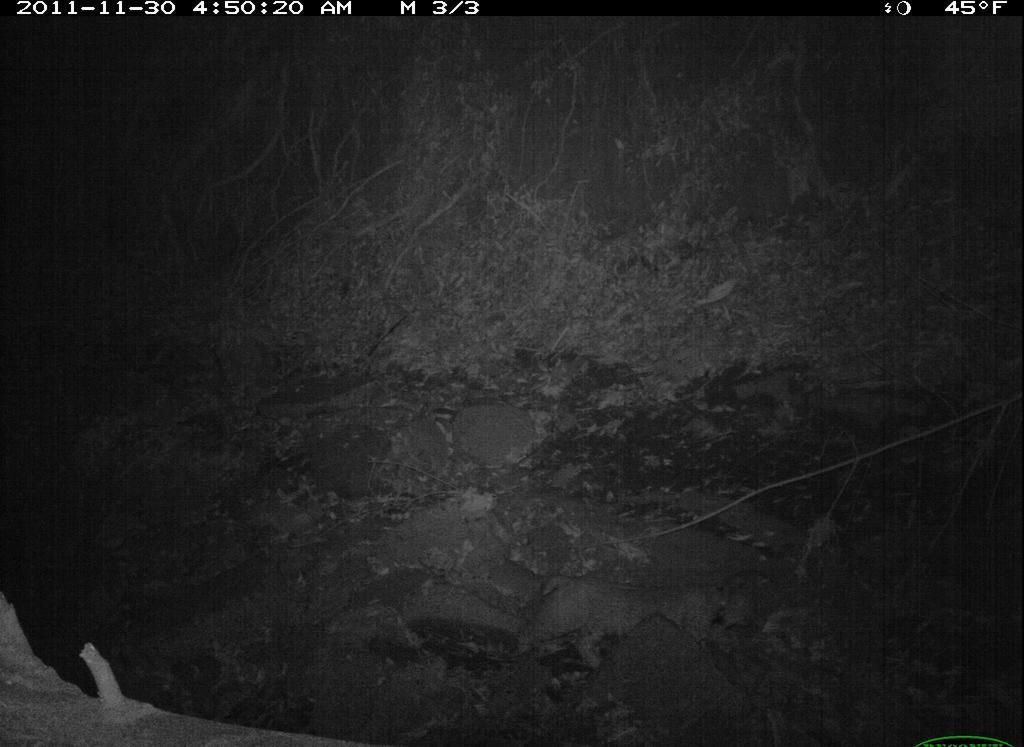bobcat: (513, 571, 760, 684)
